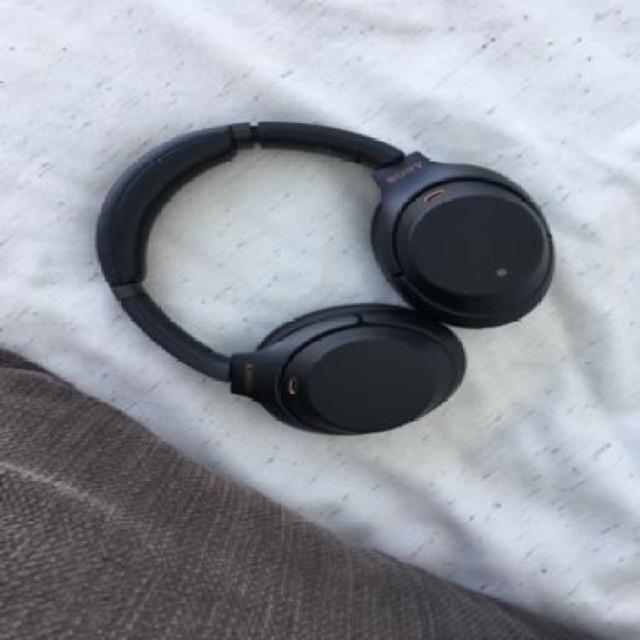earphone: (83, 25, 590, 450)
